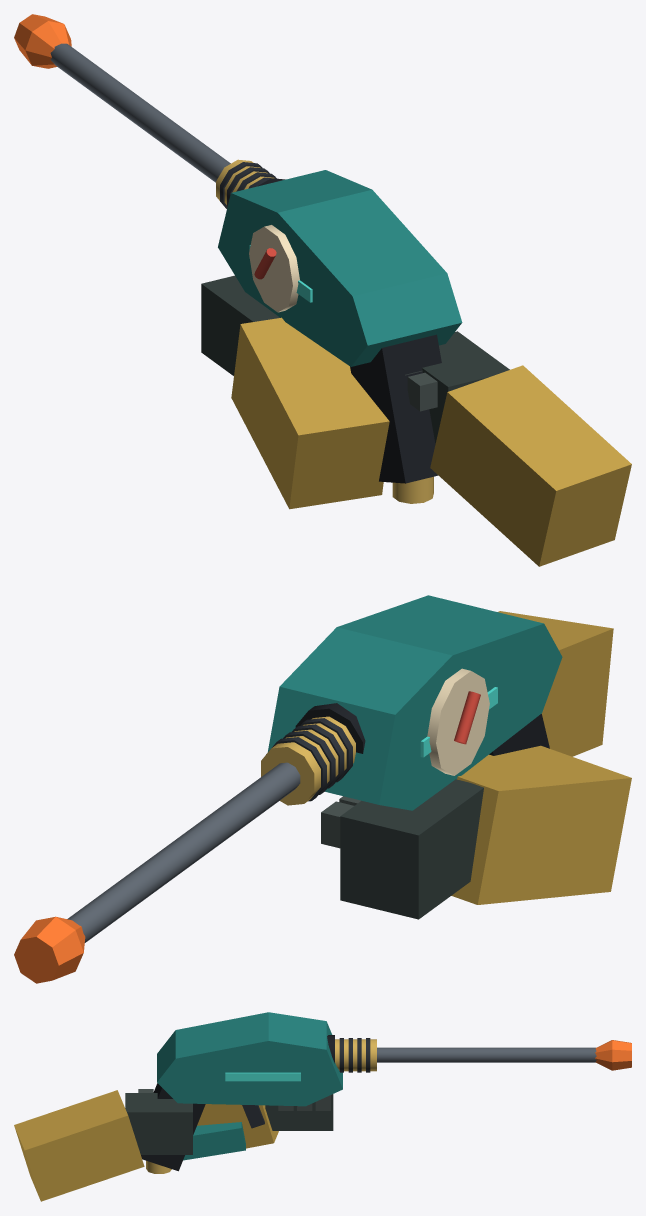
File: pressure_washer.glb
The picture shows the model from 3 angles, top to bottom: view 1: azimuth 30°, elevation 25°; view 2: azimuth 150°, elevation 25°; view 3: azimuth 270°, elevation 25°; orthographic projection. The views are drawn at different scales.
Parts seen in each view (by area): view 1: _MeshInstance3D_3548, _MeshInstance3D_3572, _MeshInstance3D_3566, _MeshInstance3D_3549, _MeshInstance3D_3551, _MeshInstance3D_3565, _MeshInstance3D_3571, _MeshInstance3D_3559, _MeshInstance3D_3552, _MeshInstance3D_3575, _MeshInstance3D_3563; view 2: _MeshInstance3D_3548, _MeshInstance3D_3566, _MeshInstance3D_3565, _MeshInstance3D_3551, _MeshInstance3D_3572, _MeshInstance3D_3559, _MeshInstance3D_3552, _MeshInstance3D_3550, _MeshInstance3D_3549, _MeshInstance3D_3554, _MeshInstance3D_3567, _MeshInstance3D_3560 (+4 smaller); view 3: _MeshInstance3D_3548, _MeshInstance3D_3572, _MeshInstance3D_3571, _MeshInstance3D_3551, _MeshInstance3D_3566, _MeshInstance3D_3553, _MeshInstance3D_3565, _MeshInstance3D_3552, _MeshInstance3D_3550, _MeshInstance3D_3549, _MeshInstance3D_3561, _MeshInstance3D_3562.
Part boxes in pixels (bbox=[...]): _MeshInstance3D_3548: bbox=[218, 170, 462, 366]; _MeshInstance3D_3572: bbox=[430, 365, 631, 566]; _MeshInstance3D_3566: bbox=[231, 317, 389, 509]; _MeshInstance3D_3549: bbox=[350, 334, 441, 483]; _MeshInstance3D_3551: bbox=[50, 43, 230, 182]; _MeshInstance3D_3565: bbox=[201, 275, 279, 375]; _MeshInstance3D_3571: bbox=[422, 331, 509, 444]; _MeshInstance3D_3559: bbox=[249, 225, 299, 312]; _MeshInstance3D_3552: bbox=[14, 14, 71, 68]; _MeshInstance3D_3575: bbox=[407, 372, 437, 411]; _MeshInstance3D_3563: bbox=[392, 476, 433, 503]; _MeshInstance3D_3548: bbox=[267, 595, 562, 810]; _MeshInstance3D_3566: bbox=[451, 745, 631, 904]; _MeshInstance3D_3565: bbox=[340, 779, 483, 919]; _MeshInstance3D_3551: bbox=[67, 762, 300, 942]; _MeshInstance3D_3572: bbox=[498, 611, 613, 756]; _MeshInstance3D_3559: bbox=[427, 668, 489, 775]; _MeshInstance3D_3552: bbox=[14, 916, 85, 983]; _MeshInstance3D_3550: bbox=[261, 716, 355, 805]; _MeshInstance3D_3549: bbox=[489, 714, 549, 755]; _MeshInstance3D_3554: bbox=[295, 703, 365, 753]; _MeshInstance3D_3567: bbox=[321, 801, 353, 848]; _MeshInstance3D_3560: bbox=[454, 691, 480, 744]; _MeshInstance3D_3548: bbox=[157, 1012, 342, 1106]; _MeshInstance3D_3572: bbox=[14, 1090, 144, 1201]; _MeshInstance3D_3571: bbox=[125, 1093, 192, 1154]; _MeshInstance3D_3551: bbox=[377, 1047, 596, 1062]; _MeshInstance3D_3566: bbox=[197, 1104, 278, 1148]; _MeshInstance3D_3553: bbox=[183, 1122, 245, 1160]; _MeshInstance3D_3565: bbox=[265, 1094, 333, 1130]; _MeshInstance3D_3552: bbox=[595, 1040, 631, 1070]; _MeshInstance3D_3550: bbox=[335, 1039, 376, 1071]; _MeshInstance3D_3549: bbox=[141, 1083, 205, 1171]; _MeshInstance3D_3561: bbox=[225, 1072, 300, 1081]; _MeshInstance3D_3562: bbox=[242, 1105, 264, 1128].
Size of the model in its own units: 0.1445 by 0.1442 by 0.5647.
